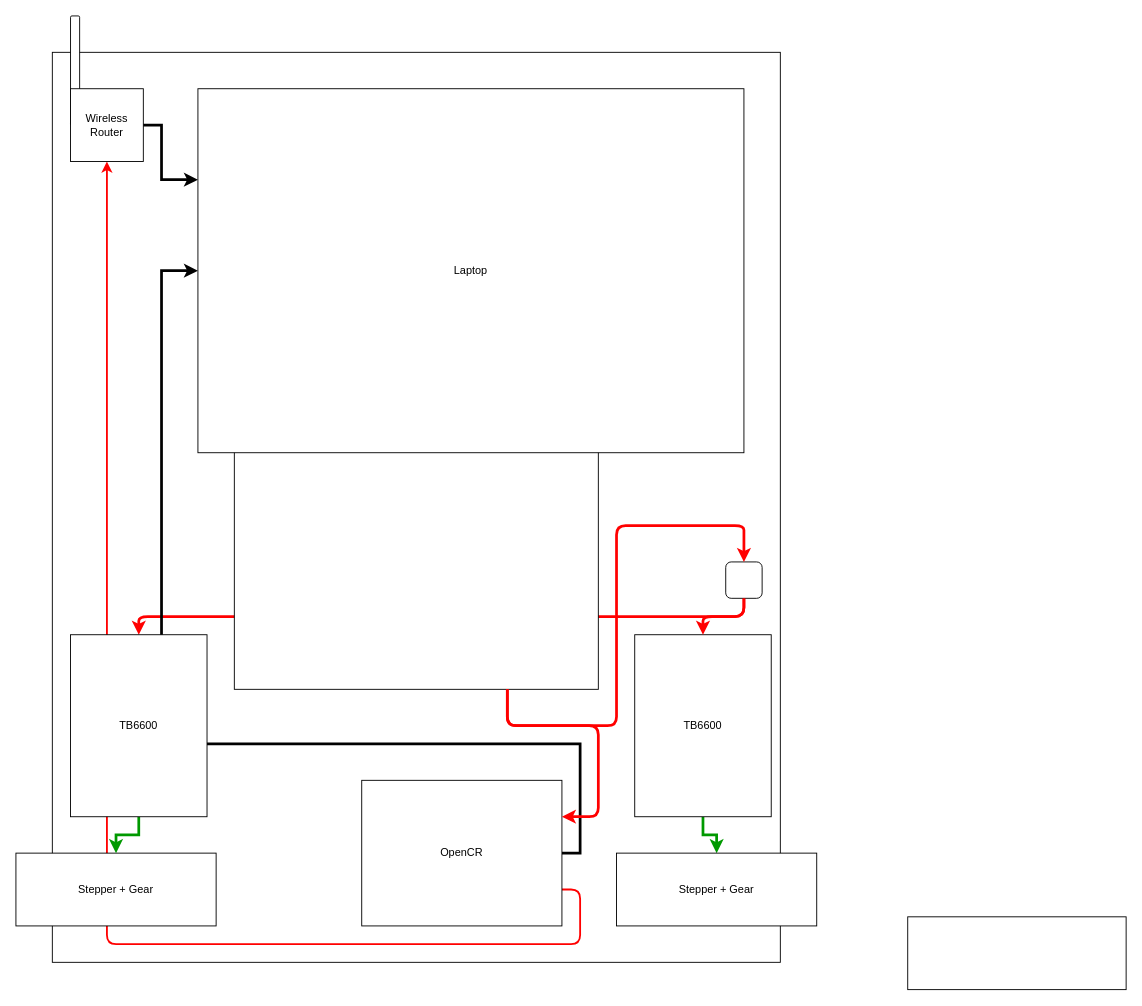
Some shapes in this 1142 by 1006 pixel diagram are drawn without their labels. The centre of each missing label's shape, as x and y in pixels:
"24V Battery" goes at (x=415, y=538).
"Button" goes at (x=743, y=579).
"UV Lamp" goes at (x=1016, y=953).
